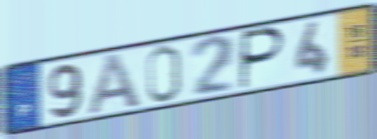0: (145, 43, 183, 105)
2: (188, 33, 238, 100)
4: (293, 18, 332, 78)
9: (46, 62, 84, 121)
A: (85, 50, 144, 118)
P: (237, 25, 288, 92)
